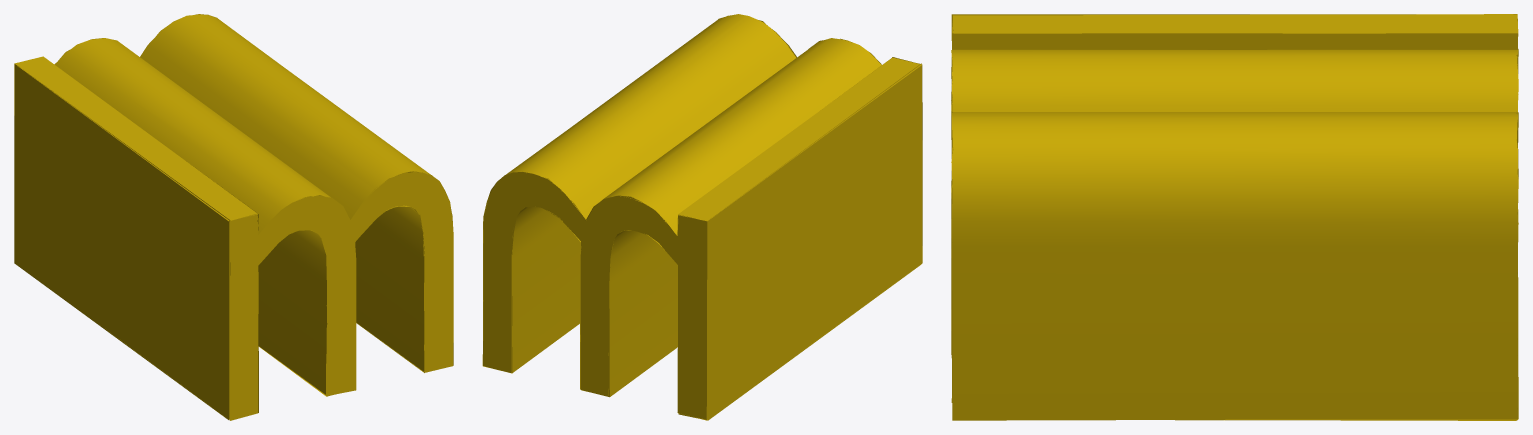
The model's file is original_5.obj.
3 views of the same model, side by side, from view 1: azimuth 30°, elevation 25°; view 2: azimuth 150°, elevation 25°; view 3: azimuth 270°, elevation 25° (orthographic). The views are drawn at different scales.
Parts seen in each view (by area): view 1: #ID31; view 2: #ID31; view 3: #ID31.
Part boxes in pixels (x1,y1,x2,y2): #ID31: [14, 14, 453, 420]; #ID31: [482, 14, 922, 420]; #ID31: [951, 14, 1518, 420].
Size of the model in its own units: 0.0466 by 0.0408 by 0.0775.
